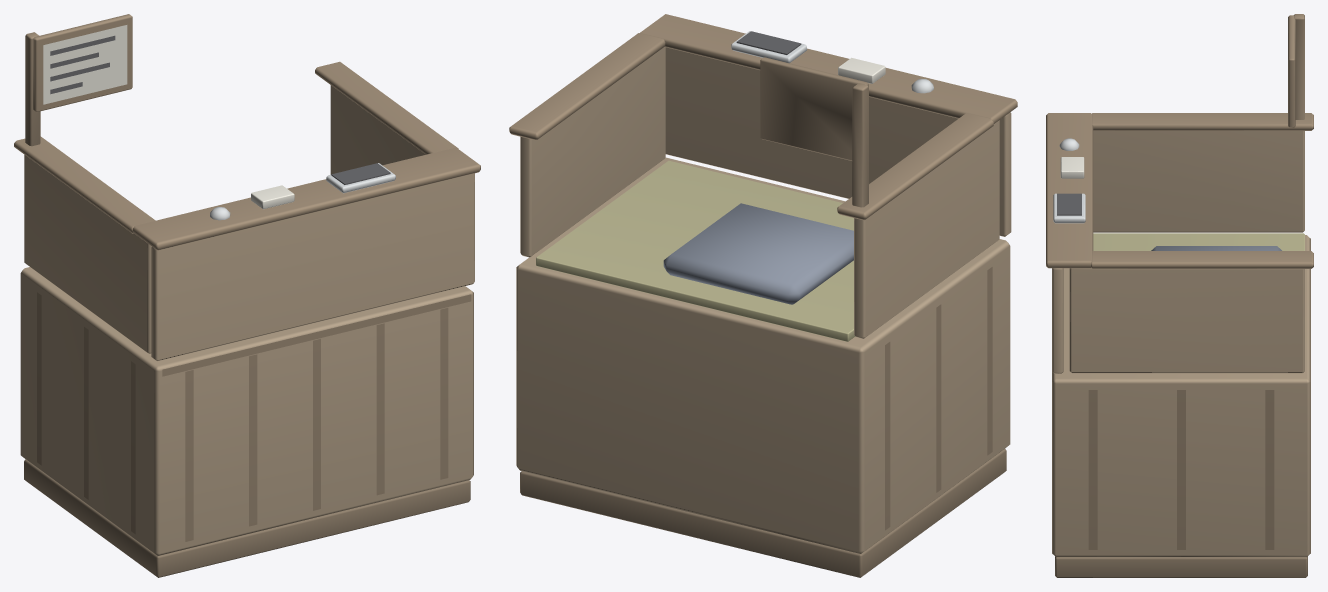
File: bandai.glb
The picture shows the model from 3 angles, left to right: view 1: azimuth 30°, elevation 25°; view 2: azimuth 150°, elevation 25°; view 3: azimuth 270°, elevation 25°; orthographic projection. The views are drawn at different scales.
Parts seen in each view (by area): view 1: pool_bandai; view 2: pool_bandai; view 3: pool_bandai.
Part boxes in pixels (x1,y1,x2,y2): pool_bandai: (14,14,480,577); pool_bandai: (509,14,1017,577); pool_bandai: (1046,14,1313,577).
Bounding box in the file's own units: 1.21 × 1.58 × 0.91.
